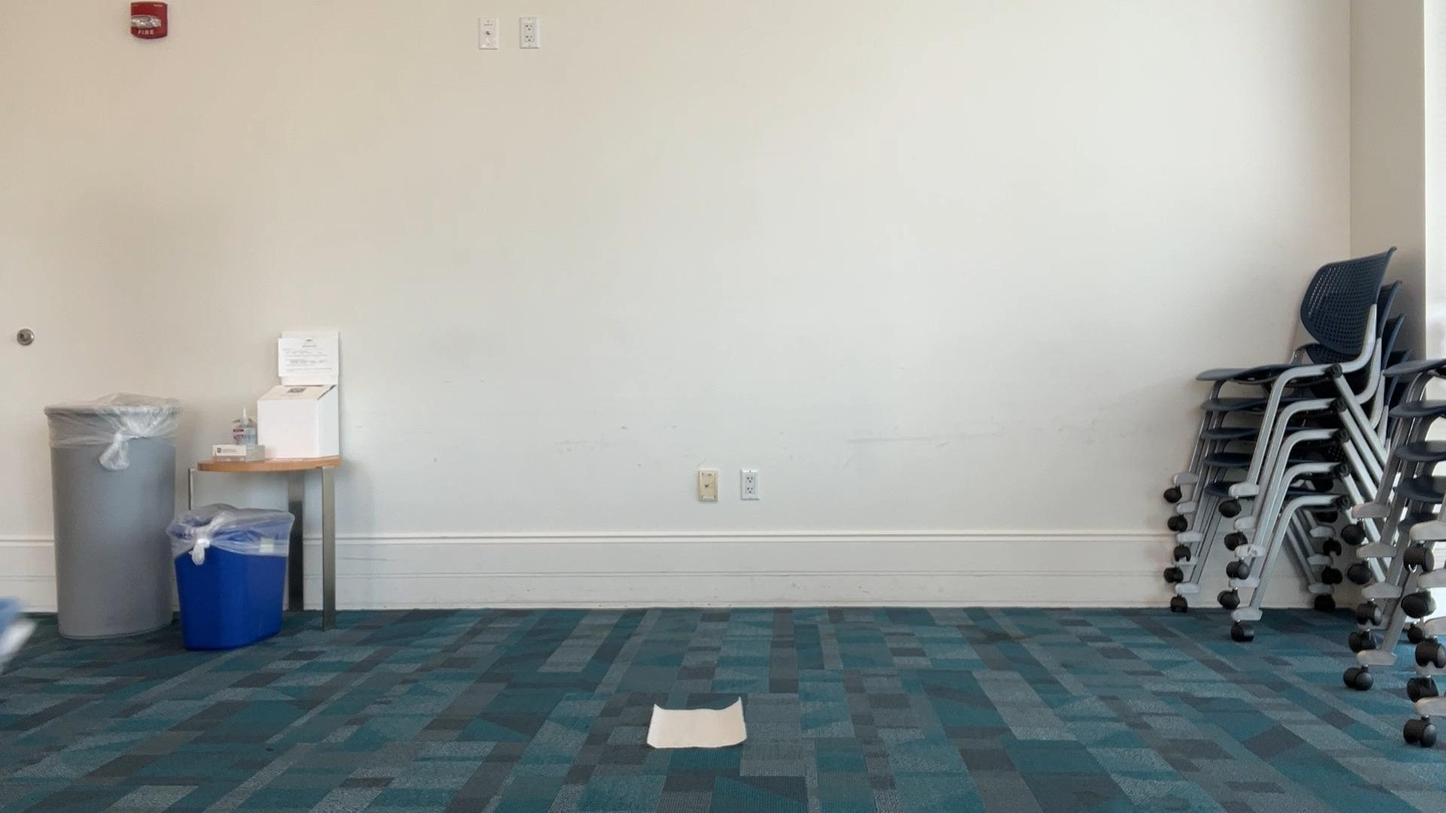Trash: (629, 674, 761, 764)
